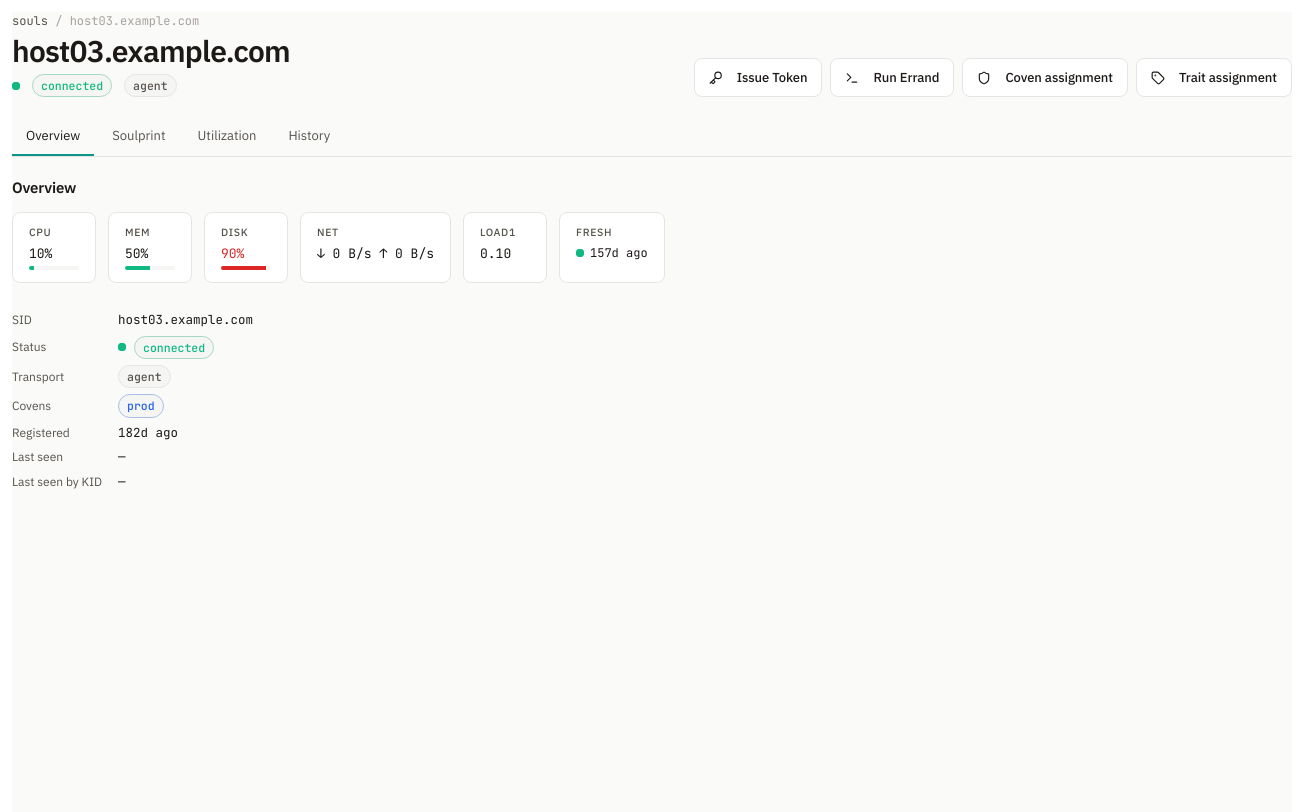
Test: SoulUtilizationTab › disk table columns are click-to-sort with a caret on the active column
The image size is (1304, 812).
Expected: the heading "host03.example.com" is shown, [12,36,290,66]
Click the tab "Utilization". click: (227,137)
box: [184,117,270,156]
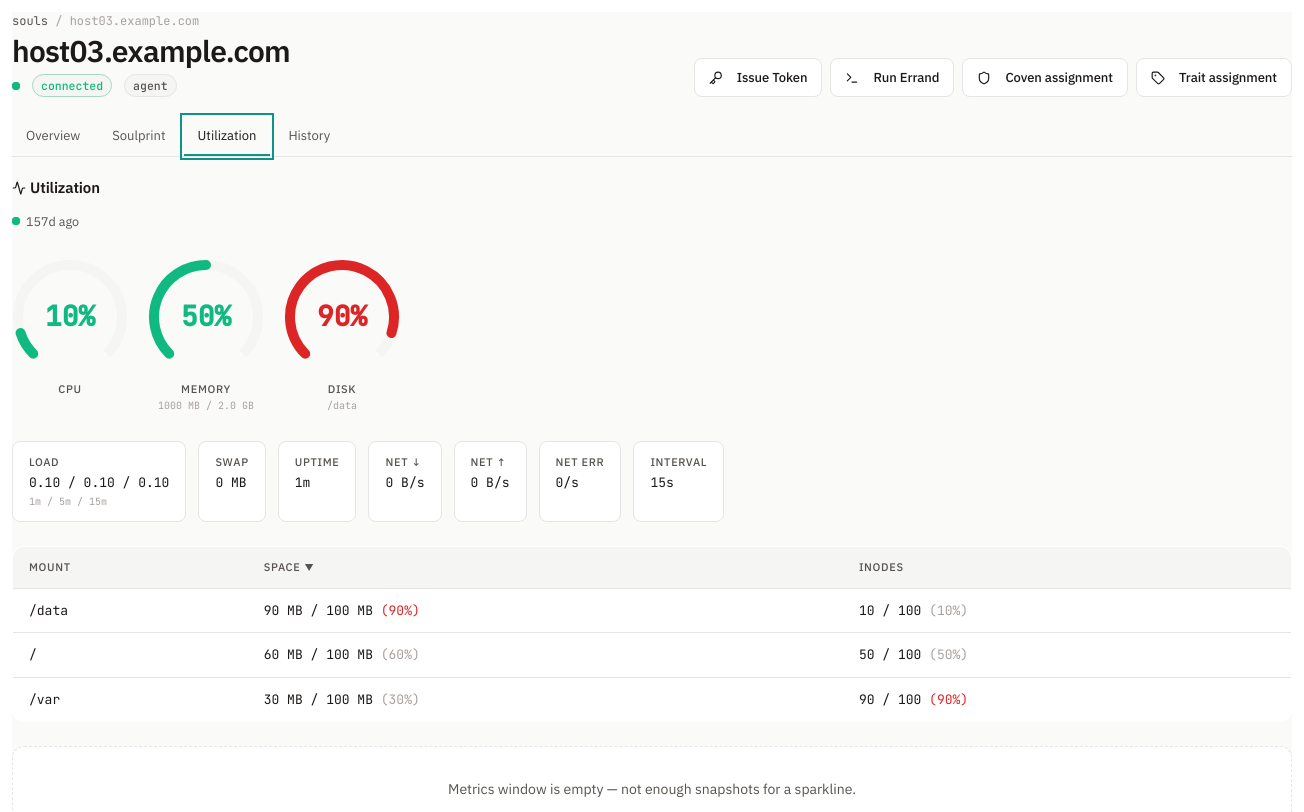
Expected: the table with test id "soul-util-disks" is shown, [12,546,1292,722]
Expected: the column heading with test id "soul-disk-th-space" shows "▼", [304,562,314,573]
click Mount → alphabetical asc + caret moves to Mount
Click the column heading with test id "soul-disk-th-mount". click: (130,567)
box: [12,546,248,588]
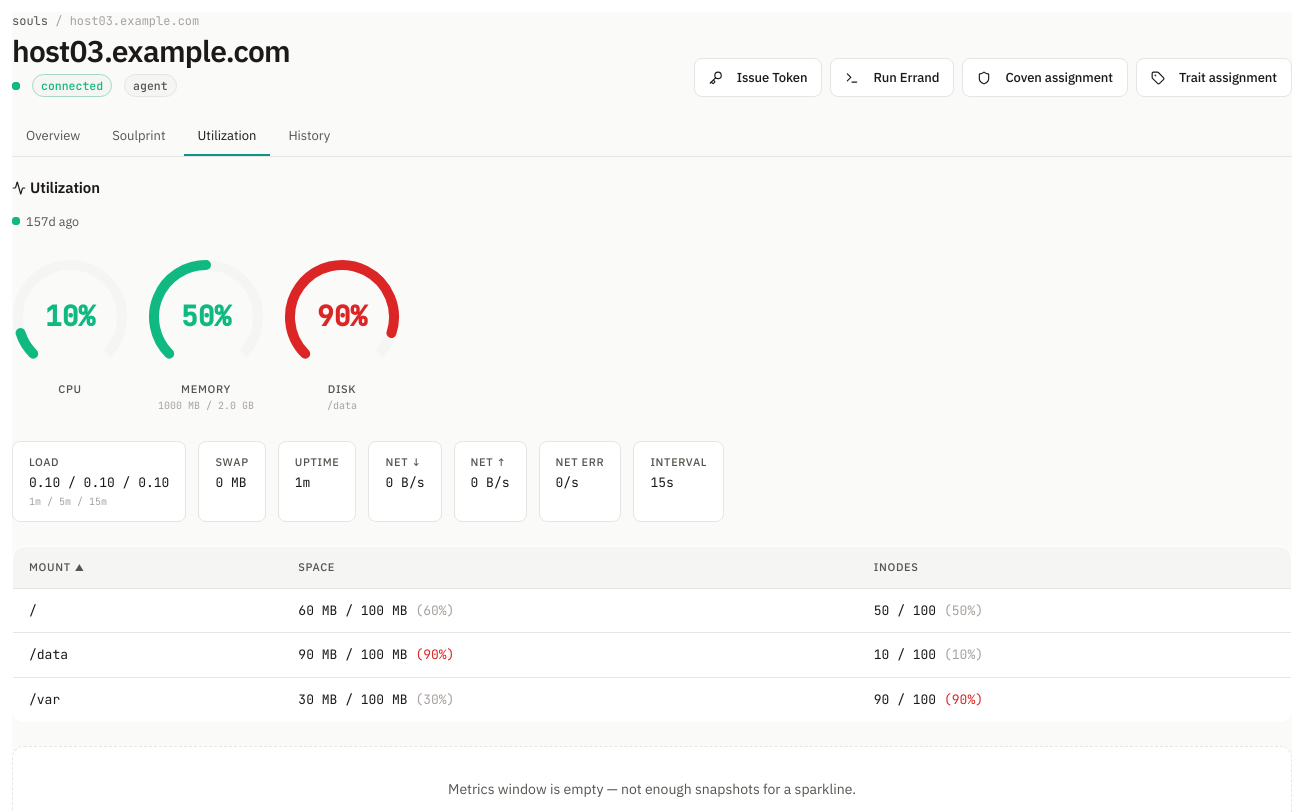
Expected: the column heading with test id "soul-disk-th-mount" shows "▲", [75,562,85,573]
Expected: the text with test id "soul-disk-th-space" no longer shows "▼"
click Space → natural desc, then click again → toggle asc
Click the column heading with test id "soul-disk-th-space". click: (570,567)
box: [282,546,858,588]
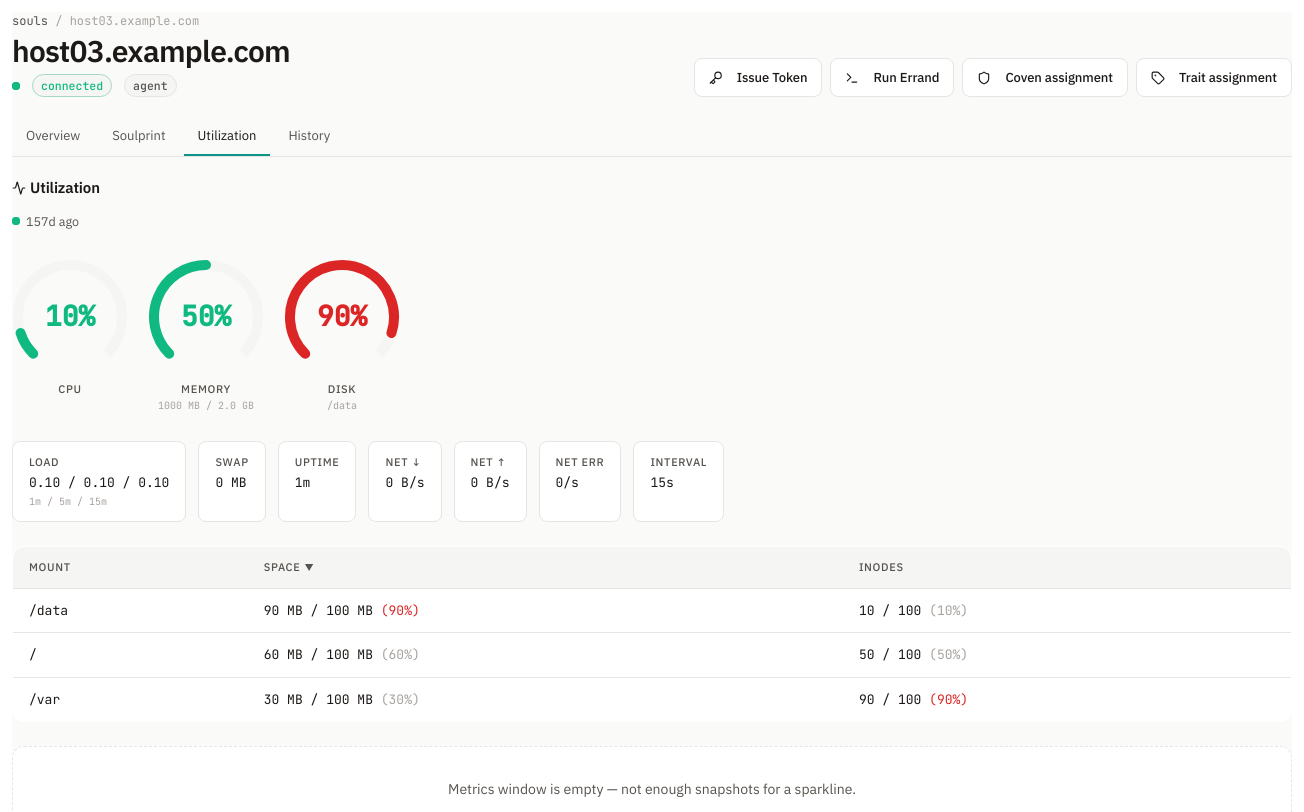
Click the column heading with test id "soul-disk-th-space". click: (545,567)
box: [248,546,843,588]
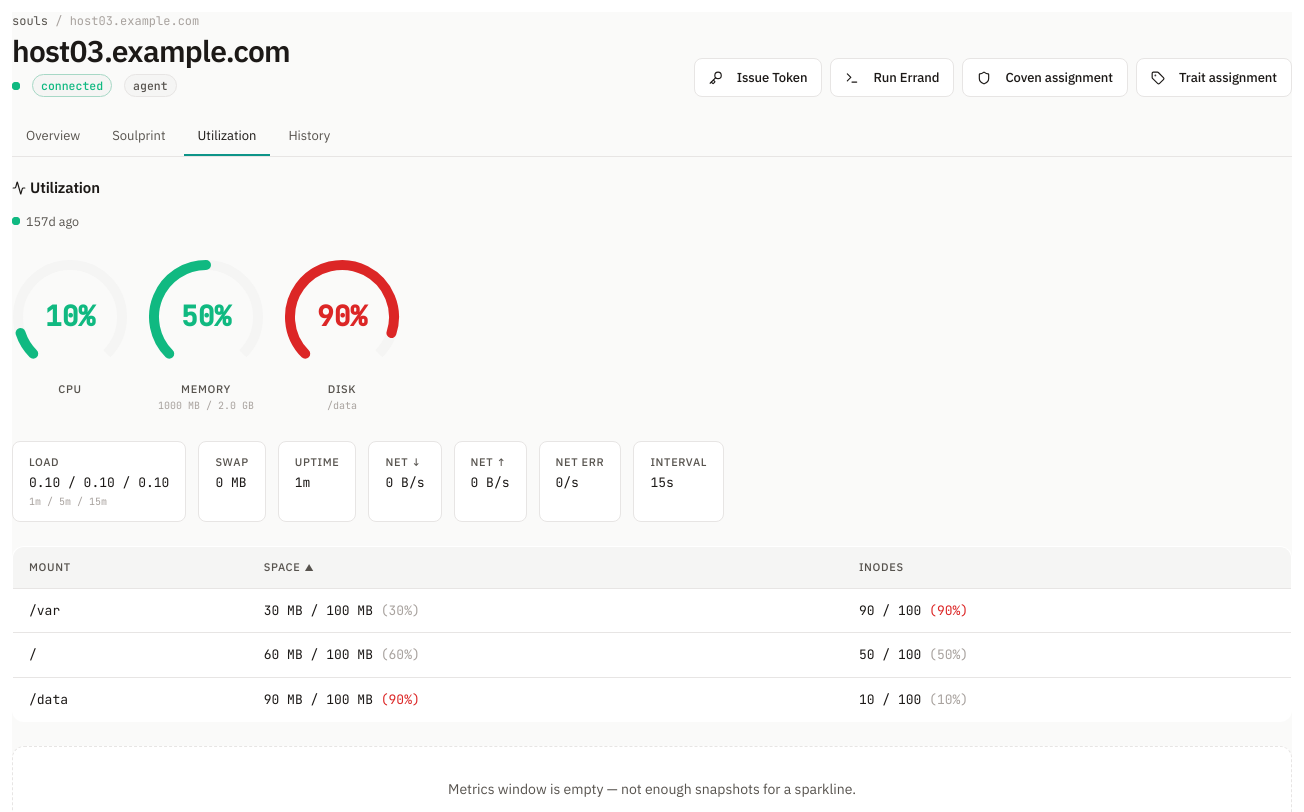
Expected: the column heading with test id "soul-disk-th-space" shows "▲", [304,562,314,573]
